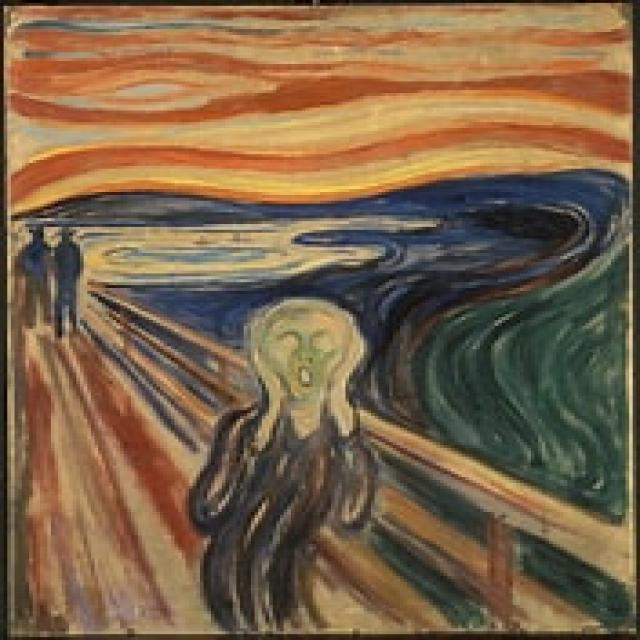skrik: (9, 9, 630, 635)
